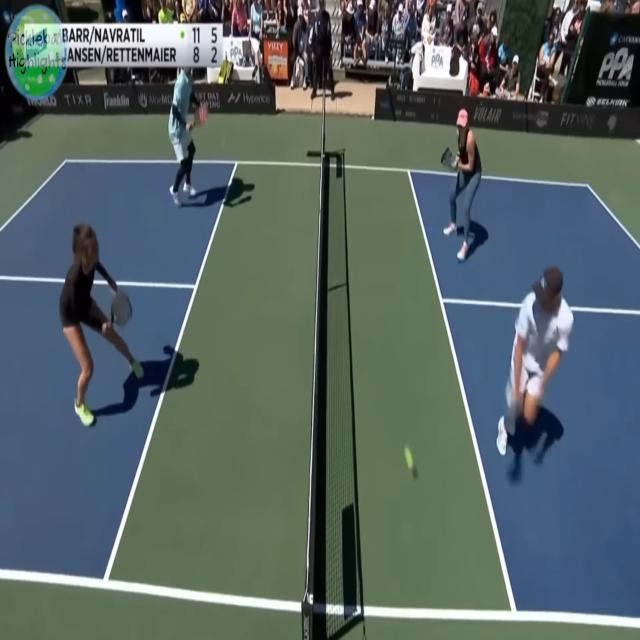ball: (402, 444, 416, 476)
